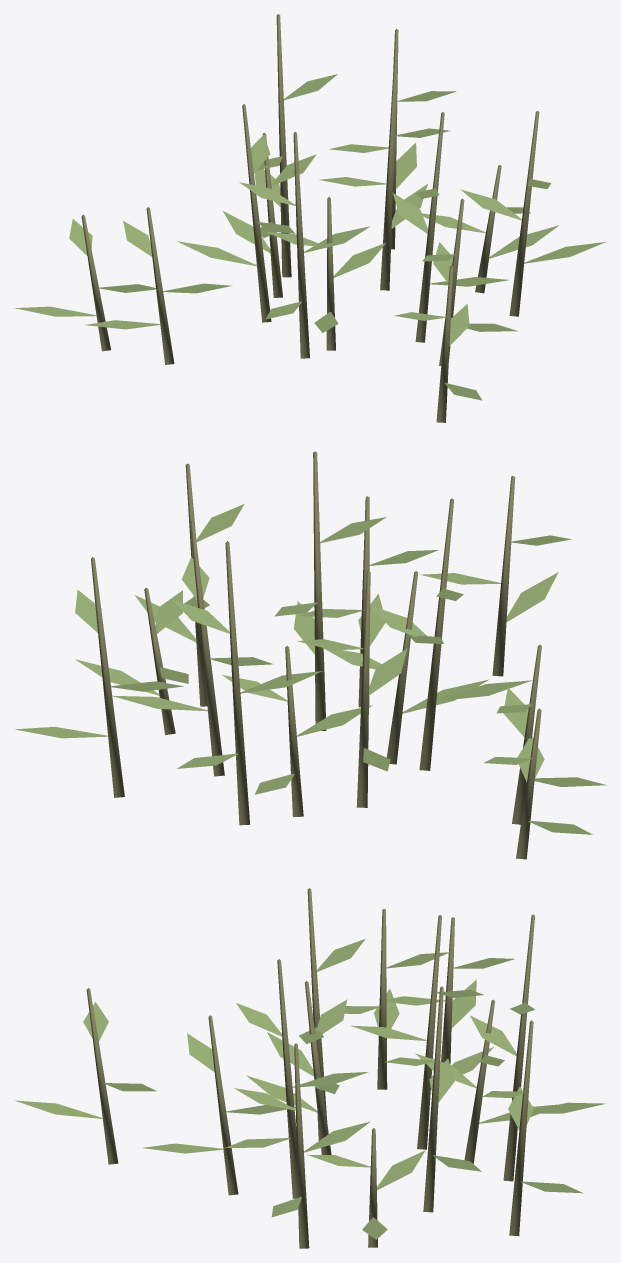
Rendered from fireweed-sprout.glb.
3 views of the same model, one above another, from view 1: azimuth 30°, elevation 25°; view 2: azimuth 150°, elevation 25°; view 3: azimuth 270°, elevation 25° (orthographic). The views are drawn at different scales.
Visible parts, largest first — view 1: understory_fireweed-sprout_LOD0; view 2: understory_fireweed-sprout_LOD0; view 3: understory_fireweed-sprout_LOD0.
Part boxes in pixels (bbox=[...]): understory_fireweed-sprout_LOD0: bbox=[14, 14, 605, 422]; understory_fireweed-sprout_LOD0: bbox=[15, 451, 606, 859]; understory_fireweed-sprout_LOD0: bbox=[14, 888, 605, 1248].
Size of the model in its own units: 0.8448 by 0.4098 by 0.8246.
